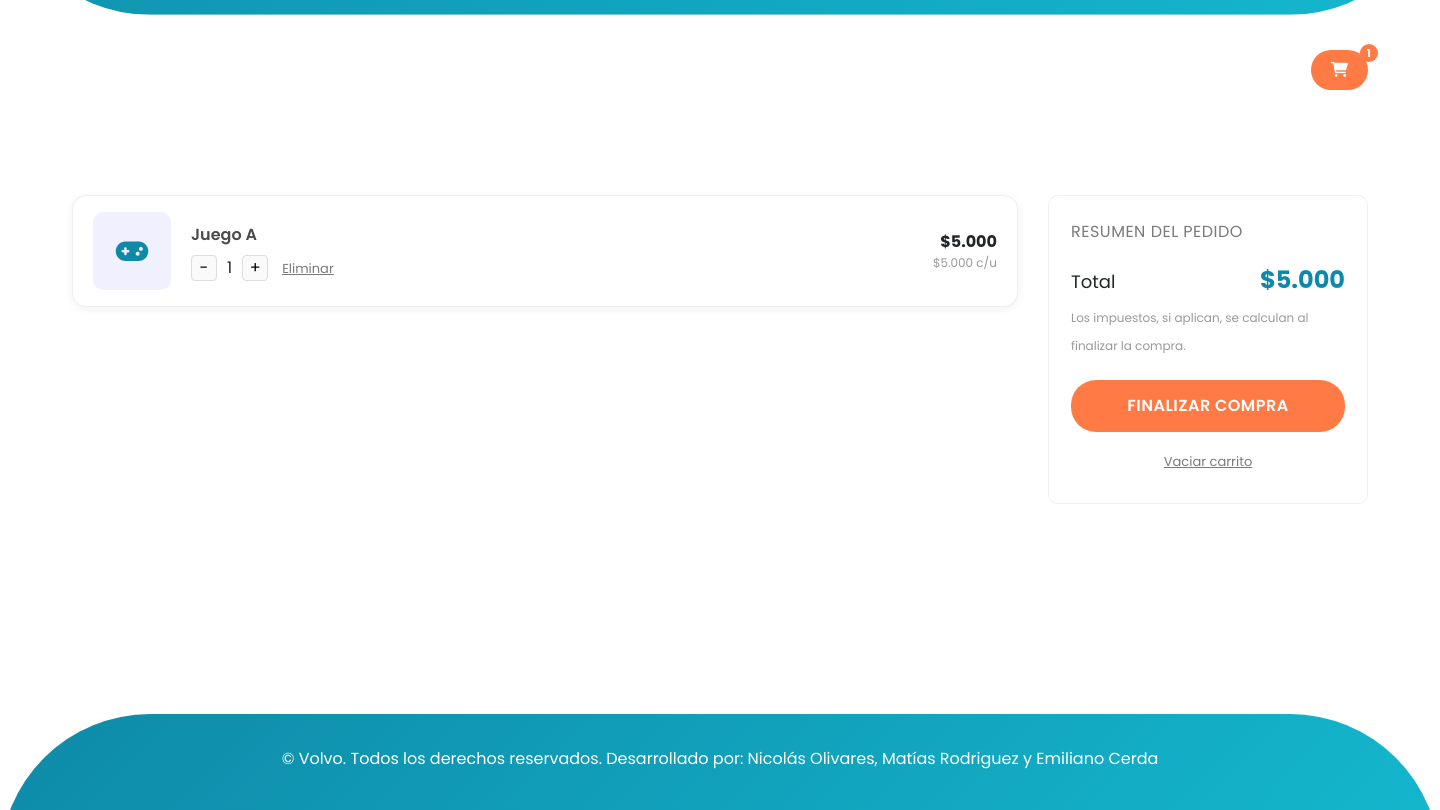
Test: Flujo de compra con login › carrito -> finalizar sin sesión -> login -> vuelve al carrito -> compra
(page scrolled)
// Intenta comprar sin haber iniciado sesión: lo manda al login con un aviso
Click the button "Finalizar compra" at (1208, 406), box [1071,380,1345,432]
(page scrolled)
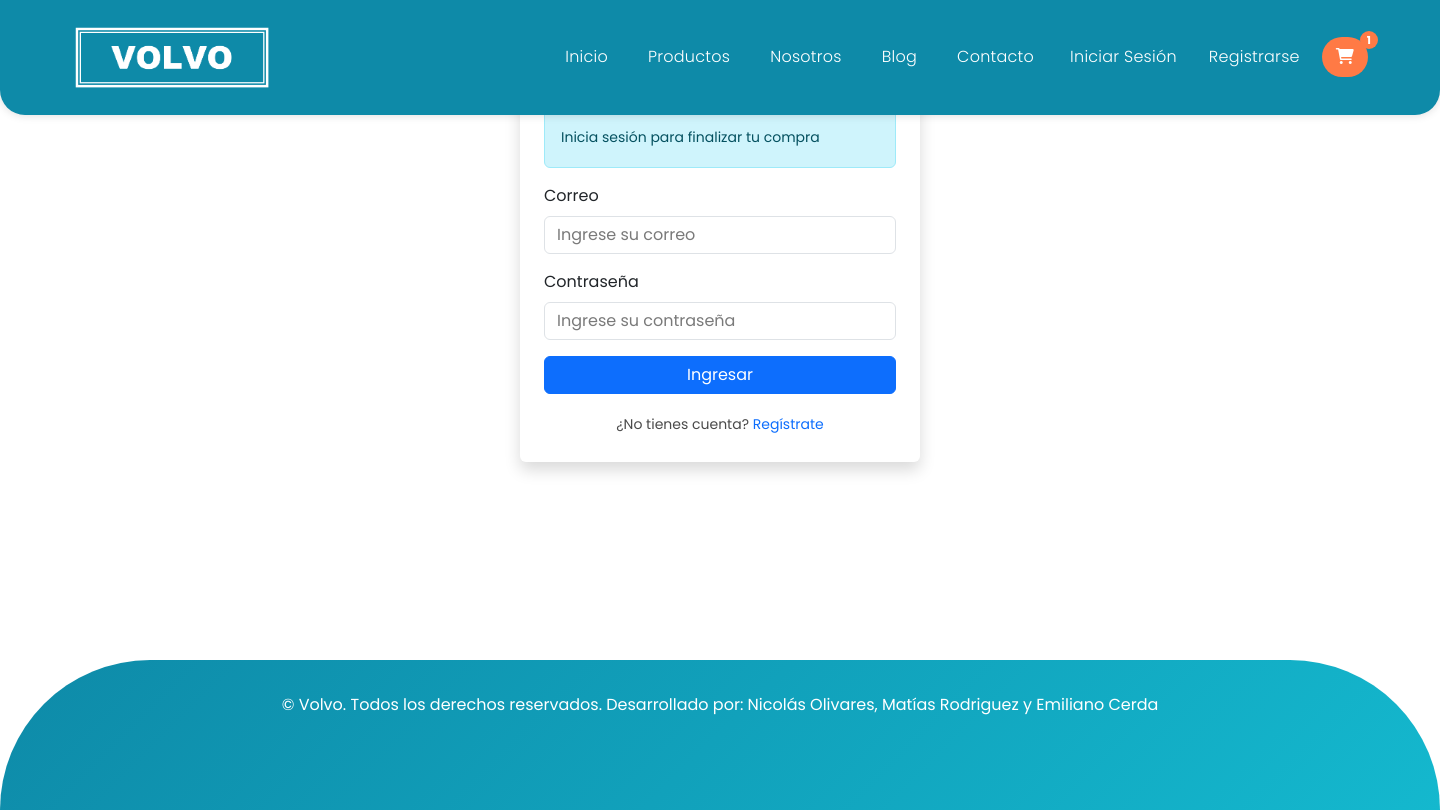
Expected: the text "Inicia sesión para finalizar tu compra" is shown, [544,106,896,168]
// Inicia sesión: vuelve solo al carrito y el carrito sigue intacto
Type "ana@gmail.com" into the field labelled "Correo" at (720, 235), box [544,216,896,254]
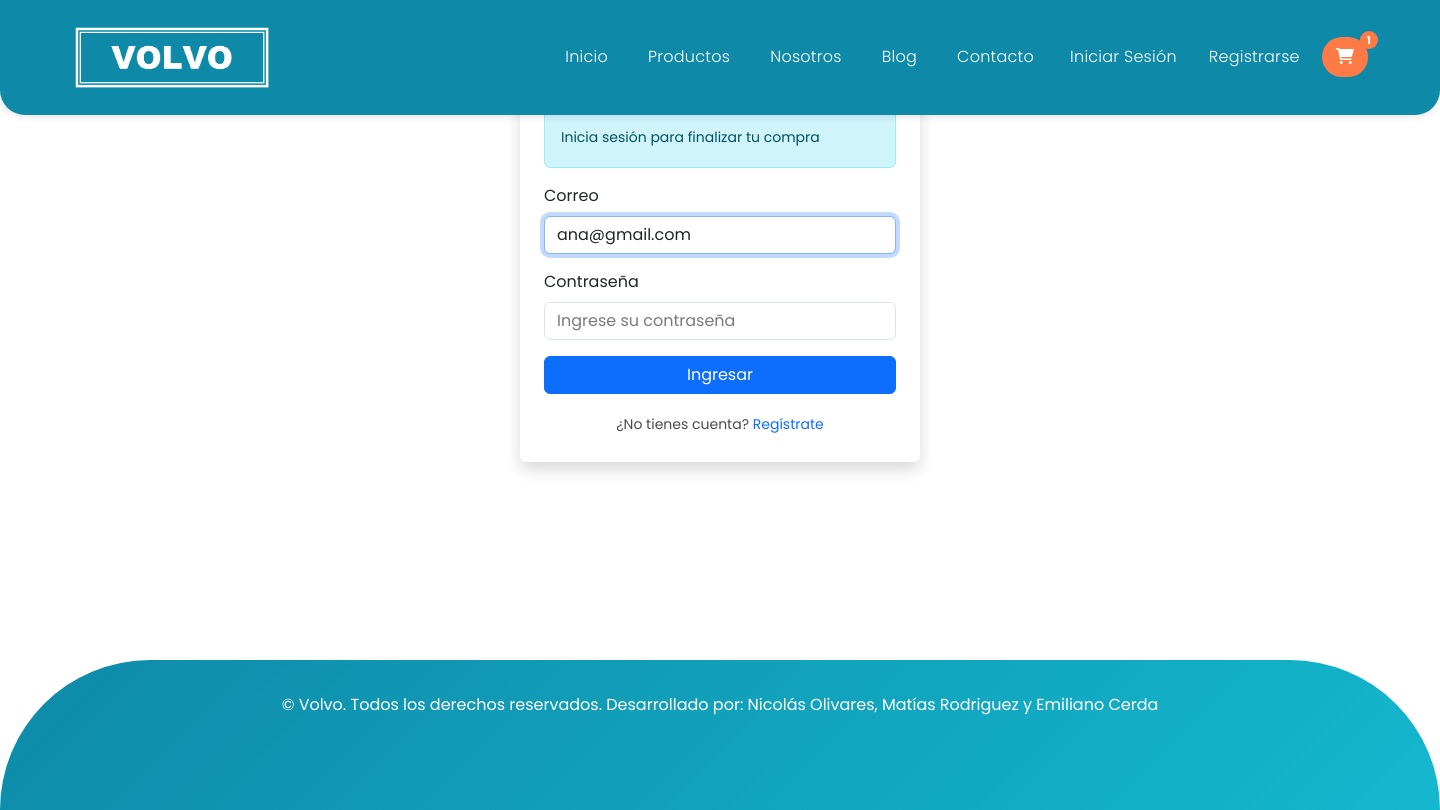
Type "1234" into the password field labelled "Contraseña" at (720, 321), box [544,302,896,340]
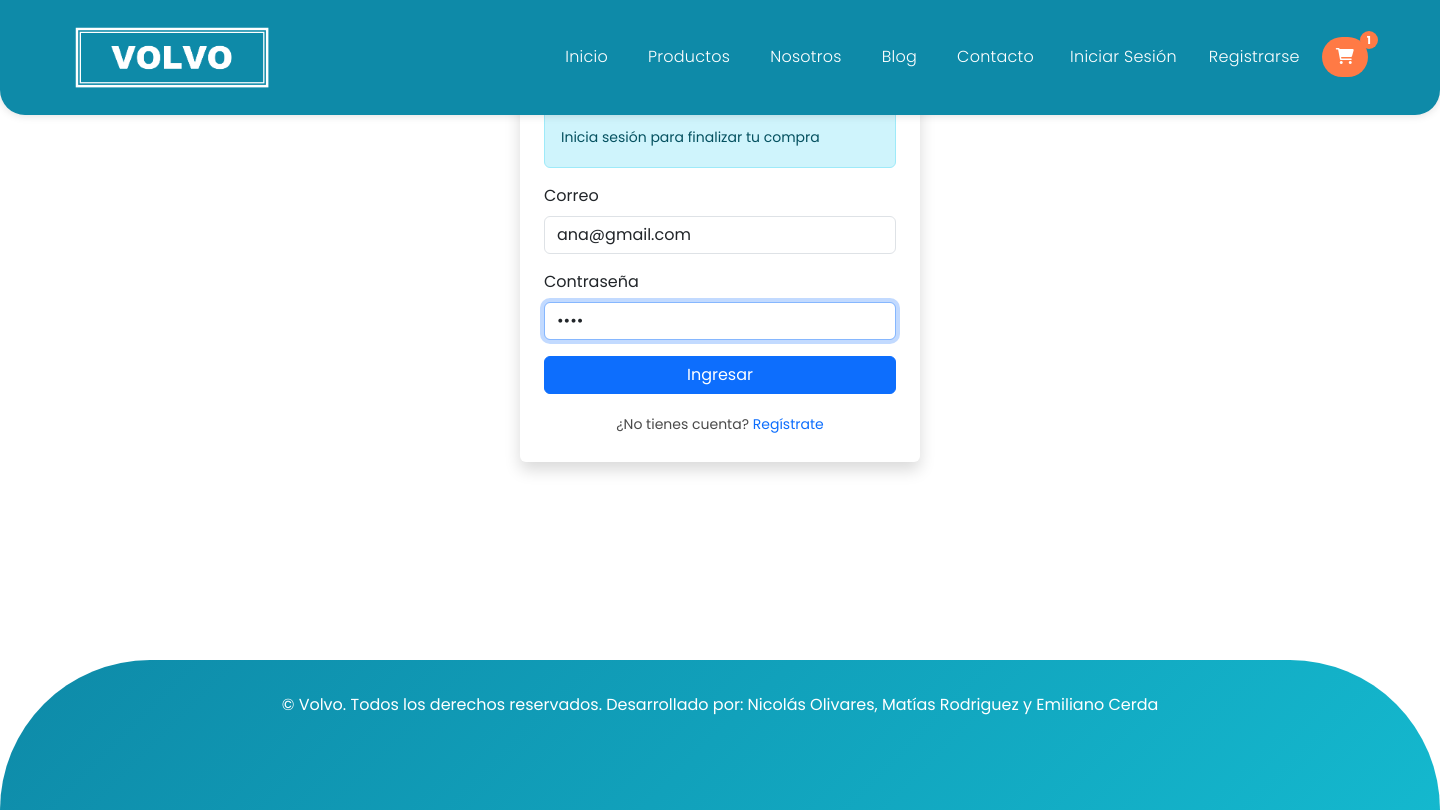
Click the button "Ingresar" at (720, 375), box [544,356,896,394]
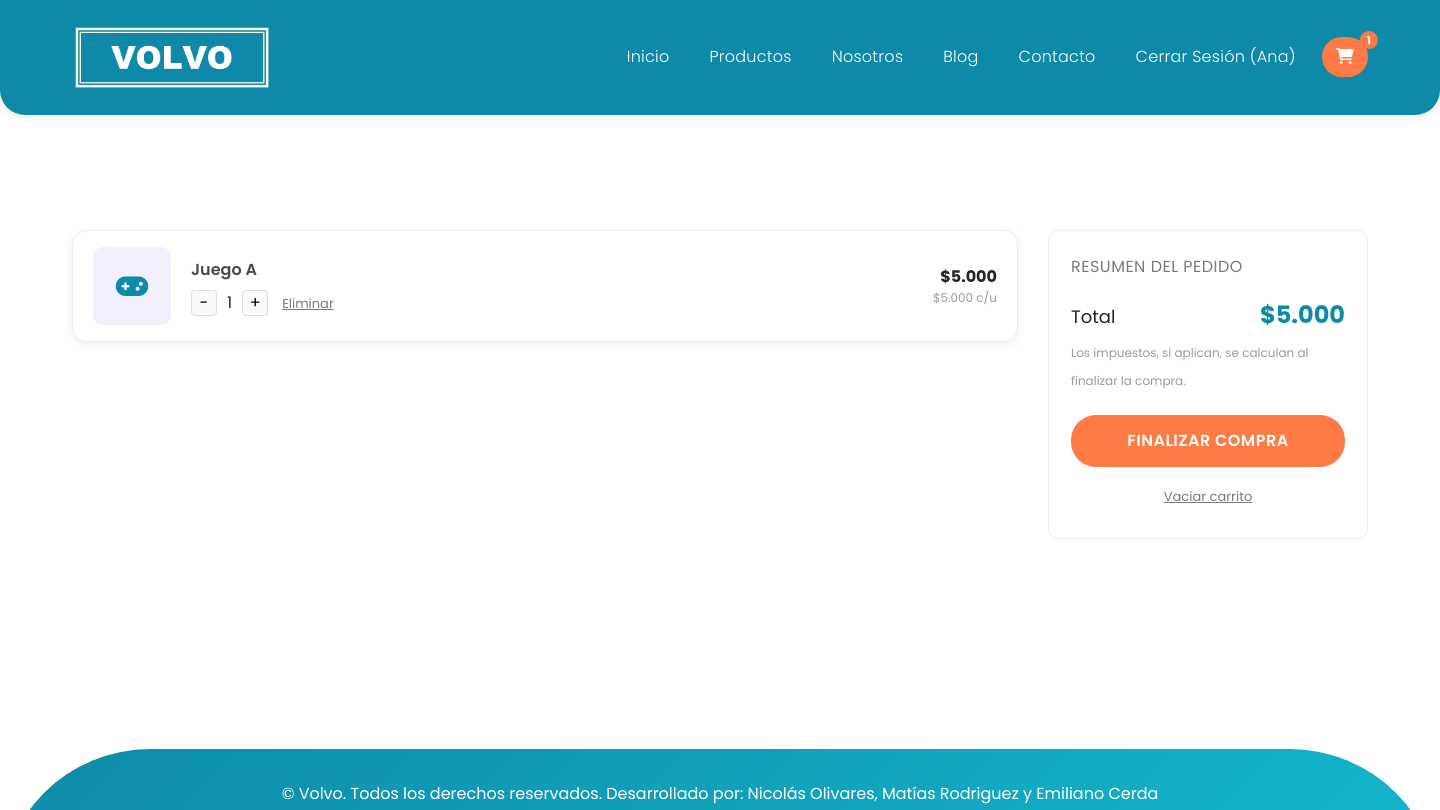
Expected: the text "Juego A" is shown, [191,258,257,281]
Expected: the link "Cerrar sesión (Ana)" is shown, [1136,45,1296,68]
// Ahora sí puede comprar
Click the button "Finalizar compra" at (1208, 441), box [1071,415,1345,467]
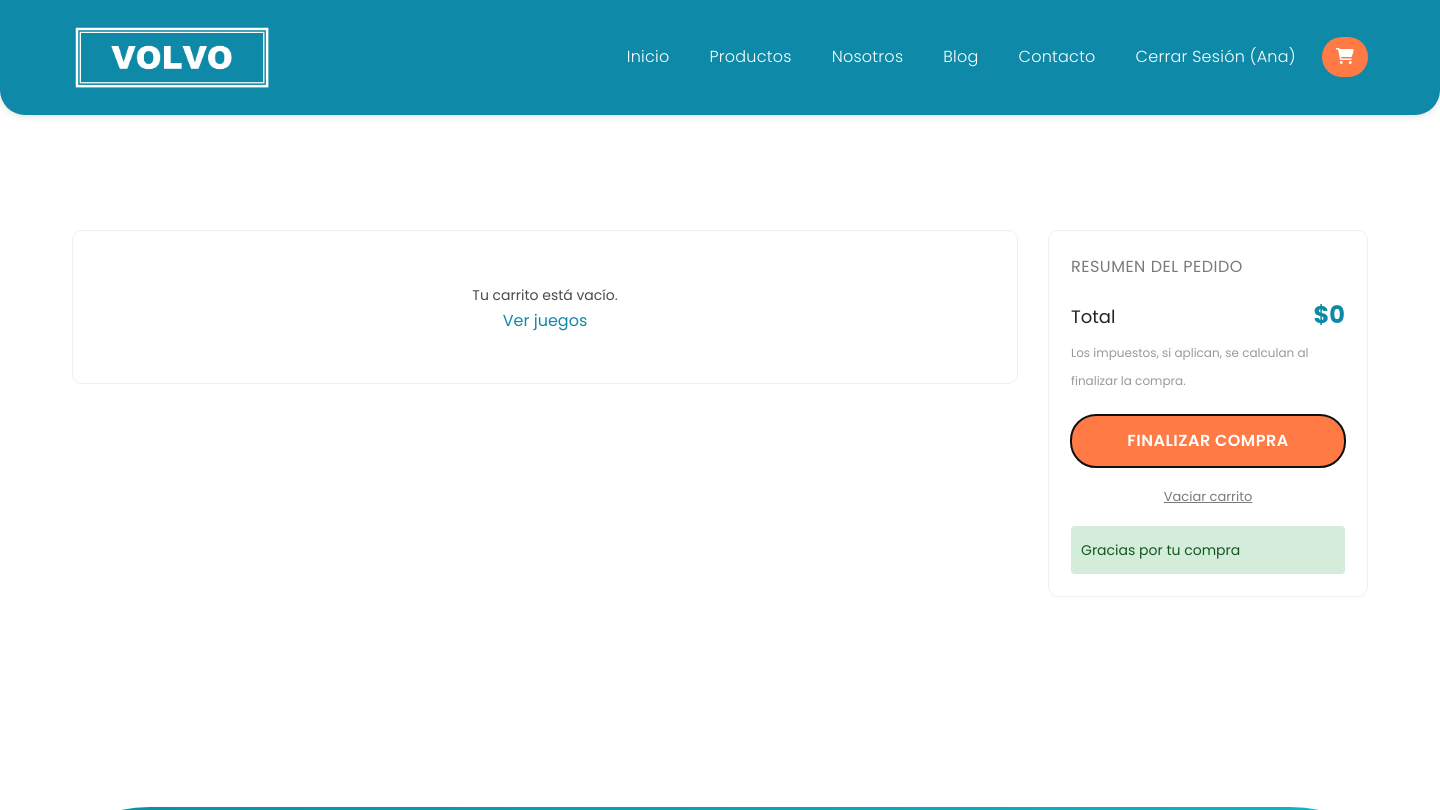
Expected: the text "Gracias por tu compra" is shown, [1071,526,1345,574]
